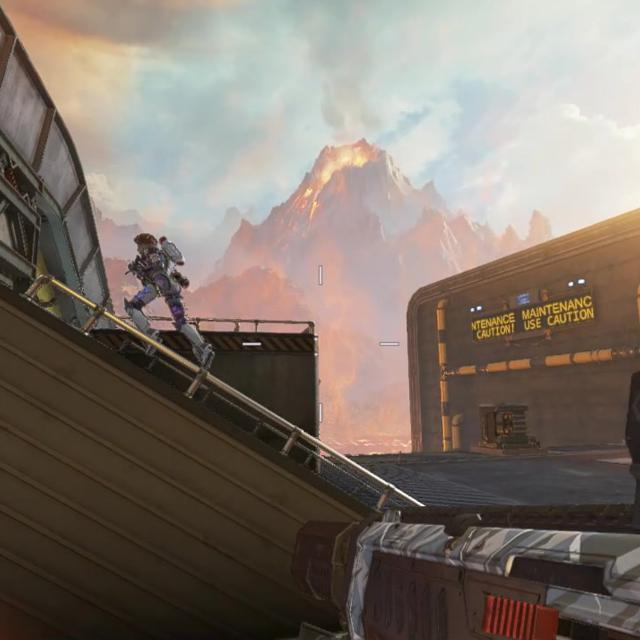avatar: (120, 231, 192, 359)
